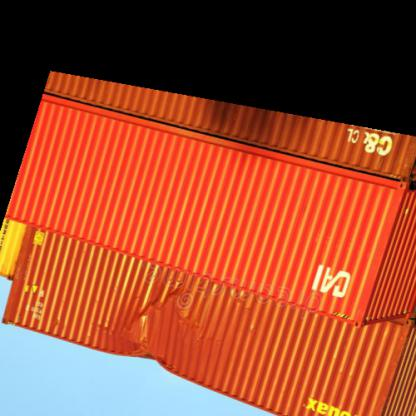Damage: (113, 288, 202, 380)
